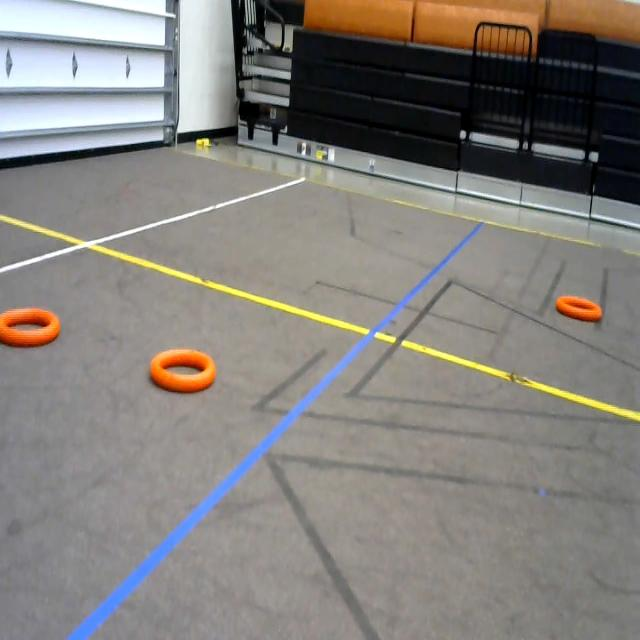note: (144, 332, 221, 407), (0, 300, 63, 366), (552, 280, 606, 336)
